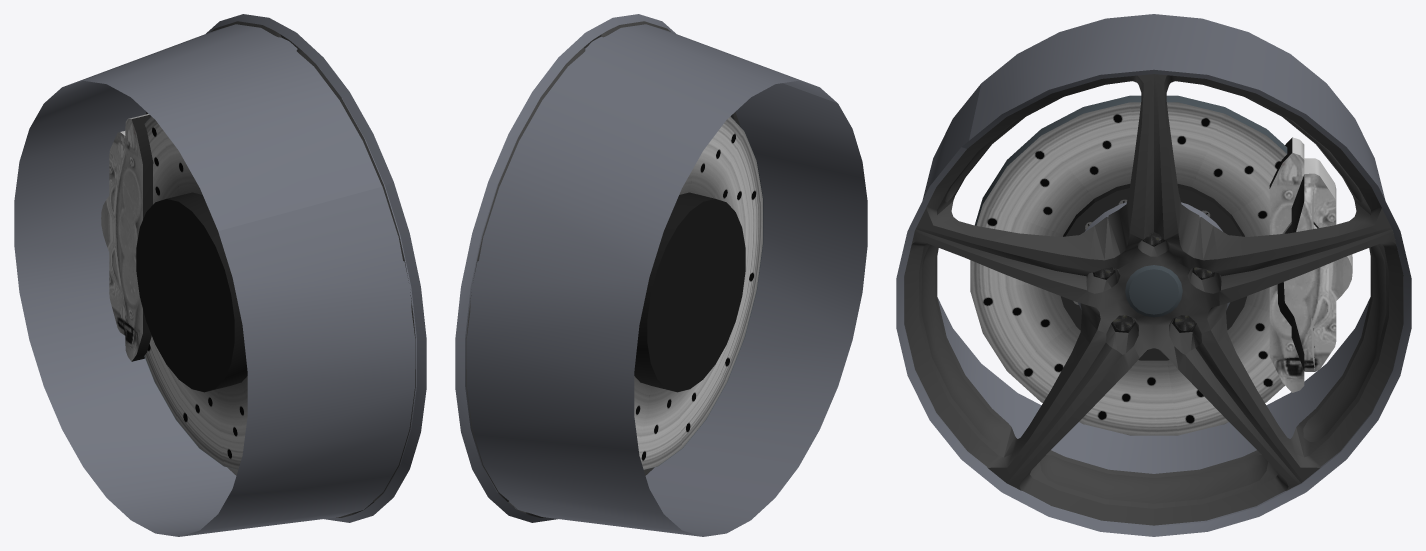
The picture shows the model from 3 angles, left to right: view 1: azimuth 30°, elevation 25°; view 2: azimuth 150°, elevation 25°; view 3: azimuth 270°, elevation 25°; orthographic projection.
Visible parts, largest first — view 1: 091, BrakeDisc, Caliper; view 2: 091, BrakeDisc; view 3: 091, BrakeDisc, Caliper.
Boxes of the visible parts, left/top/right/bottom form: 091: left=14, top=14, right=426, bottom=536; BrakeDisc: left=136, top=116, right=247, bottom=469; Caliper: left=101, top=114, right=153, bottom=361; 091: left=455, top=14, right=867, bottom=536; BrakeDisc: left=634, top=116, right=763, bottom=469; 091: left=896, top=14, right=1411, bottom=536; BrakeDisc: left=970, top=95, right=1287, bottom=435; Caliper: left=1269, top=137, right=1352, bottom=392.
Bounding box in the file's own units: 0.1969 × 0.5363 × 0.5363.
